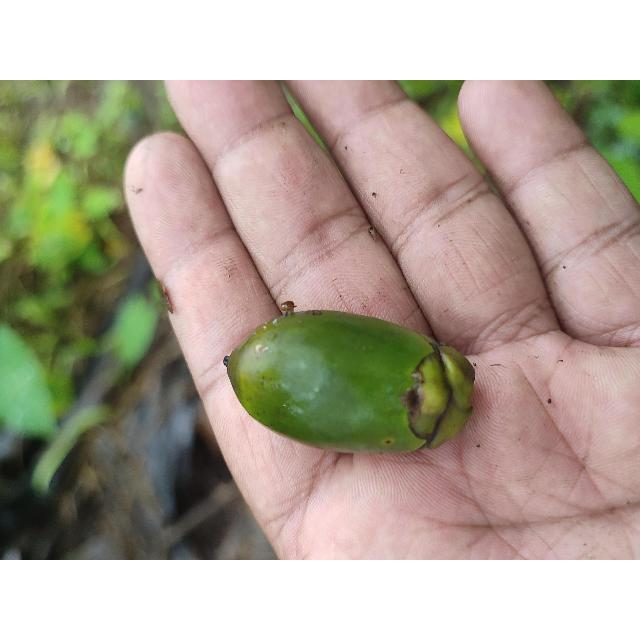good: (224, 311, 476, 456)
